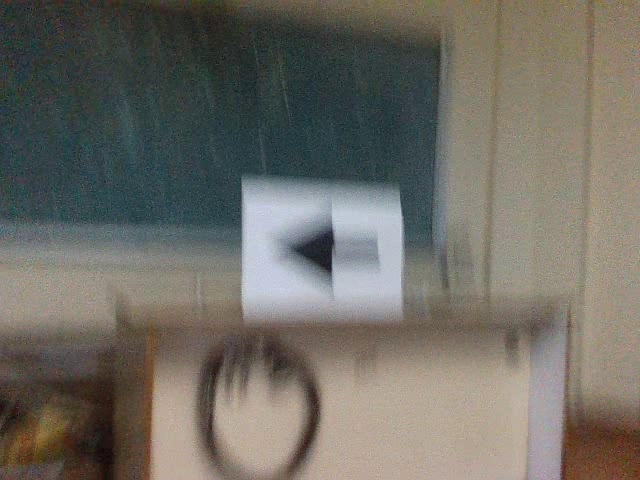Left: (270, 198, 381, 295)
